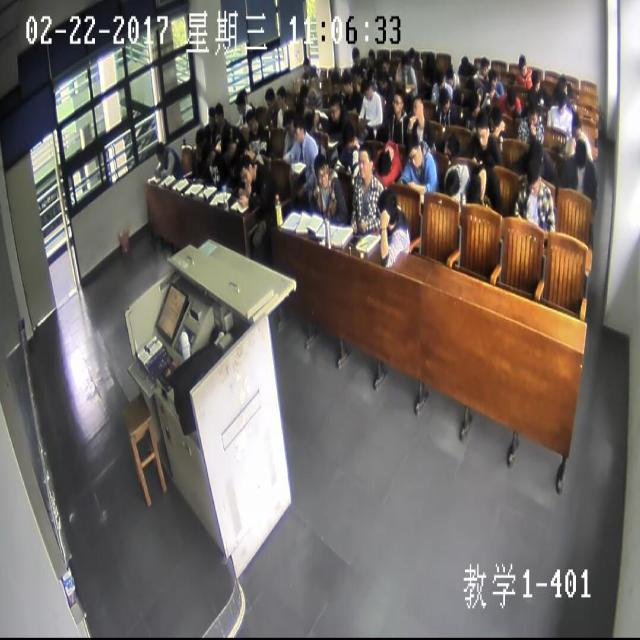person: (376, 183, 398, 230), (356, 143, 374, 186), (524, 155, 542, 197), (467, 166, 486, 203), (441, 126, 460, 160), (406, 134, 423, 170), (442, 162, 460, 196), (375, 140, 392, 175), (313, 150, 329, 187), (473, 111, 489, 148), (572, 138, 587, 174), (341, 117, 356, 152), (220, 134, 237, 163), (239, 156, 255, 186), (292, 116, 306, 146), (528, 137, 542, 167), (282, 109, 296, 138), (192, 125, 206, 152), (341, 68, 355, 95), (526, 103, 540, 130), (411, 92, 424, 120), (213, 96, 225, 126), (236, 136, 251, 160), (504, 83, 516, 112), (326, 96, 341, 119), (202, 140, 215, 166), (360, 78, 374, 102), (390, 86, 402, 114), (570, 107, 581, 137), (262, 84, 275, 109), (153, 138, 166, 162), (245, 107, 258, 131), (437, 86, 449, 112), (555, 86, 567, 112), (329, 67, 340, 95), (490, 103, 501, 131), (443, 59, 455, 84), (234, 90, 246, 114), (305, 105, 317, 129), (433, 66, 445, 90), (452, 81, 463, 107), (274, 84, 286, 107), (376, 69, 388, 92), (464, 74, 478, 93), (294, 94, 306, 116), (466, 90, 478, 112), (299, 78, 310, 100), (517, 54, 528, 76), (205, 104, 215, 128), (557, 72, 567, 95), (424, 49, 436, 68), (399, 52, 409, 74), (531, 68, 540, 92), (352, 63, 362, 84), (479, 54, 488, 76), (459, 51, 468, 72), (351, 44, 360, 64), (488, 68, 497, 87), (238, 86, 247, 104), (365, 46, 374, 64), (379, 55, 389, 71), (302, 55, 310, 73), (406, 45, 414, 62)
